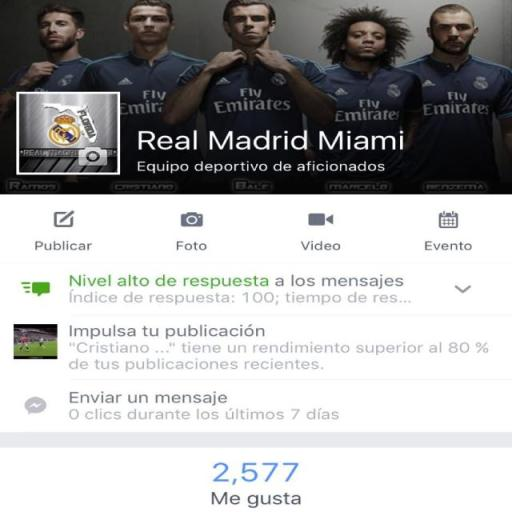Adidas: (214, 76, 233, 86), (117, 76, 135, 86), (420, 78, 438, 88), (332, 87, 350, 96)
Emirates: (210, 86, 295, 116), (420, 90, 494, 118), (333, 97, 403, 124), (118, 90, 170, 116)
